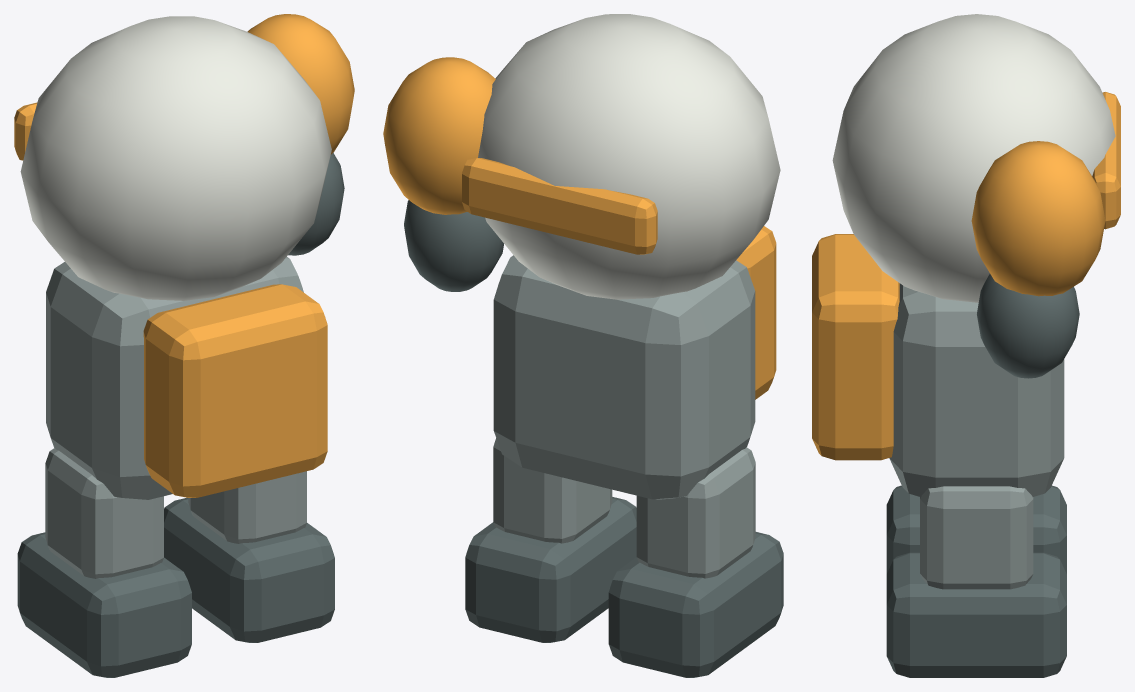
Rendered from grenadier.glb.
3 renders of one model, left to right at view 1: azimuth 30°, elevation 25°; view 2: azimuth 150°, elevation 25°; view 3: azimuth 270°, elevation 25°, orthographic.
Parts seen in each view (by area): view 1: Grenadier helmet, Grenade pack, Grenadier jacket, Grenadier boot, Grenadier boot.001, Grenadier leg, Held grenade, Grenadier leg.001, Raised hand, Grenadier visor; view 2: Grenadier helmet, Grenadier jacket, Grenadier boot, Grenadier boot.001, Held grenade, Grenadier visor, Grenadier leg, Grenadier leg.001, Raised hand, Grenade pack; view 3: Grenadier helmet, Grenadier jacket, Grenadier boot.001, Grenade pack, Held grenade, Grenadier leg.001, Raised hand, Grenadier boot, Grenadier visor.
Part boxes in pixels (x1,y1,x2,y2): Grenadier helmet: [20, 16, 331, 300]; Grenade pack: [143, 284, 327, 497]; Grenadier jacket: [46, 257, 303, 499]; Grenadier boot: [17, 532, 191, 677]; Grenadier boot.001: [164, 497, 334, 642]; Grenadier leg: [45, 448, 163, 578]; Held grenade: [247, 14, 354, 154]; Grenadier leg.001: [188, 471, 306, 543]; Raised hand: [288, 152, 344, 255]; Grenadier visor: [14, 102, 37, 160]; Grenadier helmet: [478, 14, 780, 299]; Grenadier jacket: [493, 255, 755, 499]; Grenadier boot: [608, 532, 783, 677]; Grenadier boot.001: [465, 497, 636, 642]; Held grenade: [383, 57, 495, 214]; Grenadier visor: [462, 158, 657, 254]; Grenadier leg: [636, 447, 755, 578]; Grenadier leg.001: [493, 438, 612, 543]; Raised hand: [404, 200, 503, 291]; Grenade pack: [736, 226, 776, 399]; Grenadier helmet: [832, 14, 1115, 302]; Grenadier jacket: [889, 283, 1064, 496]; Grenadier boot.001: [886, 552, 1066, 677]; Grenade pack: [812, 234, 899, 460]; Held grenade: [971, 141, 1105, 296]; Grenadier leg.001: [920, 486, 1033, 589]; Raised hand: [977, 274, 1079, 378]; Grenadier boot: [886, 485, 1066, 573]; Grenadier visor: [1092, 92, 1120, 229].
Bounding box in the file's own units: 0.76 × 1.28 × 0.6.
